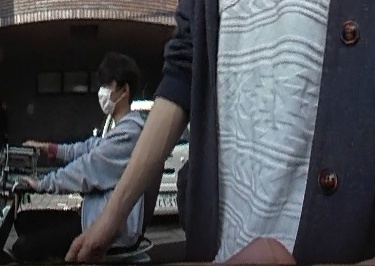person: (5, 55, 149, 266)
